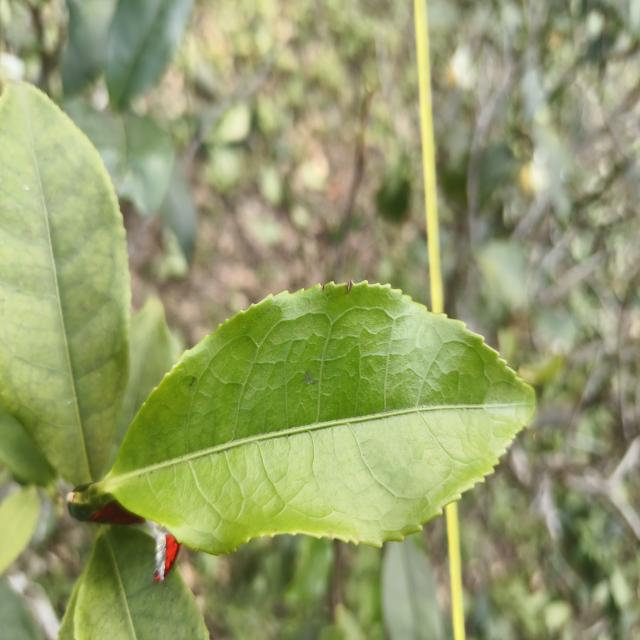Leaf: (82, 282, 535, 554), (0, 82, 130, 484), (75, 525, 208, 640), (476, 240, 577, 354), (105, 0, 193, 107), (382, 536, 444, 640), (120, 114, 175, 215), (61, 0, 116, 95), (0, 485, 40, 574)
